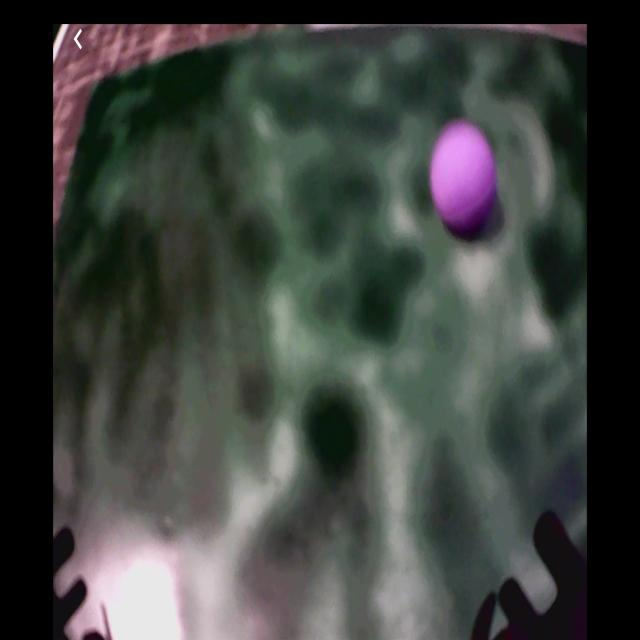ball: (433, 125, 494, 231)
